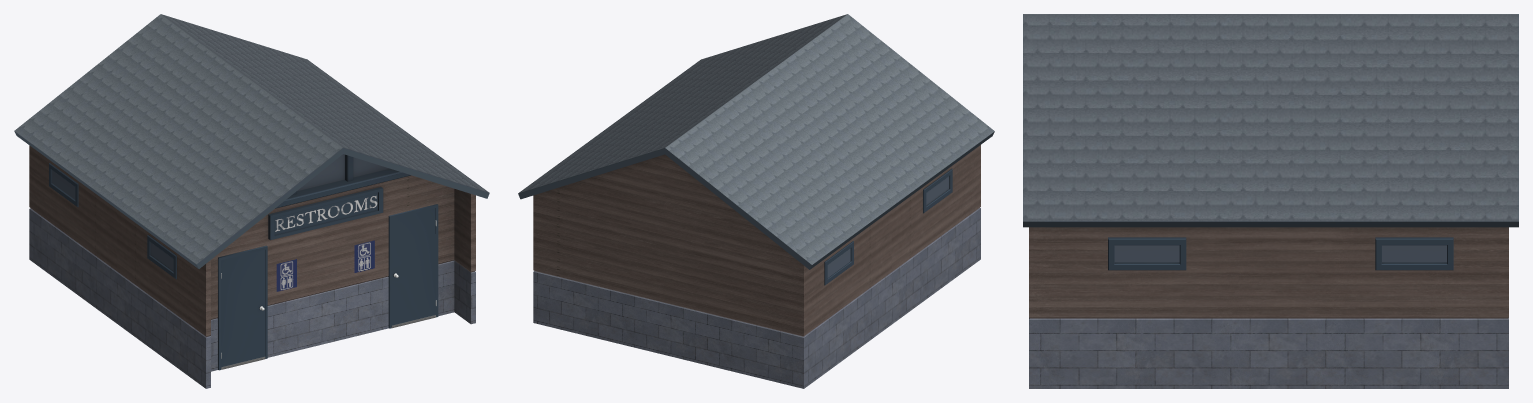
Rendered from BathroomBuilding.fbx.
3 views of the same model, side by side, from view 1: azimuth 30°, elevation 25°; view 2: azimuth 150°, elevation 25°; view 3: azimuth 270°, elevation 25° (orthographic). The views are drawn at different scales.
Parts seen in each view (by area): view 1: BathroomBuilding; view 2: BathroomBuilding; view 3: BathroomBuilding.
Part boxes in pixels (box(x1,y1,x2,y2)): BathroomBuilding: box(14, 14, 489, 388); BathroomBuilding: box(518, 14, 994, 388); BathroomBuilding: box(1023, 14, 1518, 388).
Size of the model in its own units: 628 by 430 by 676.
1 material, 1 textured.
